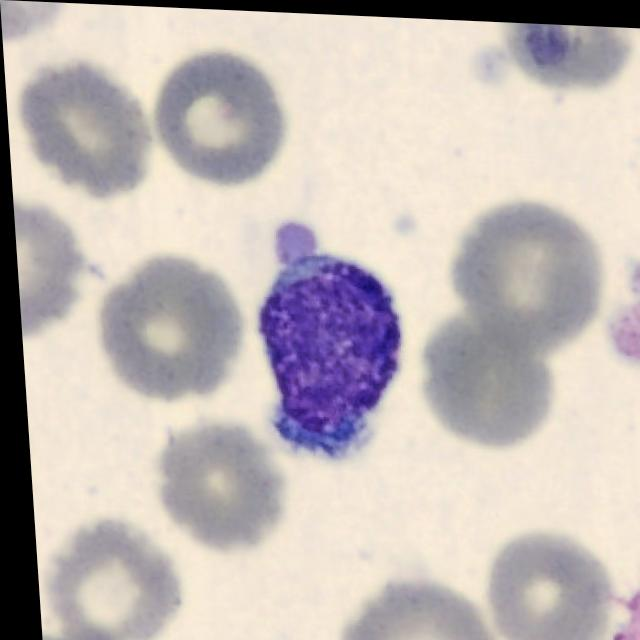Linfocito: (254, 220, 396, 460)
